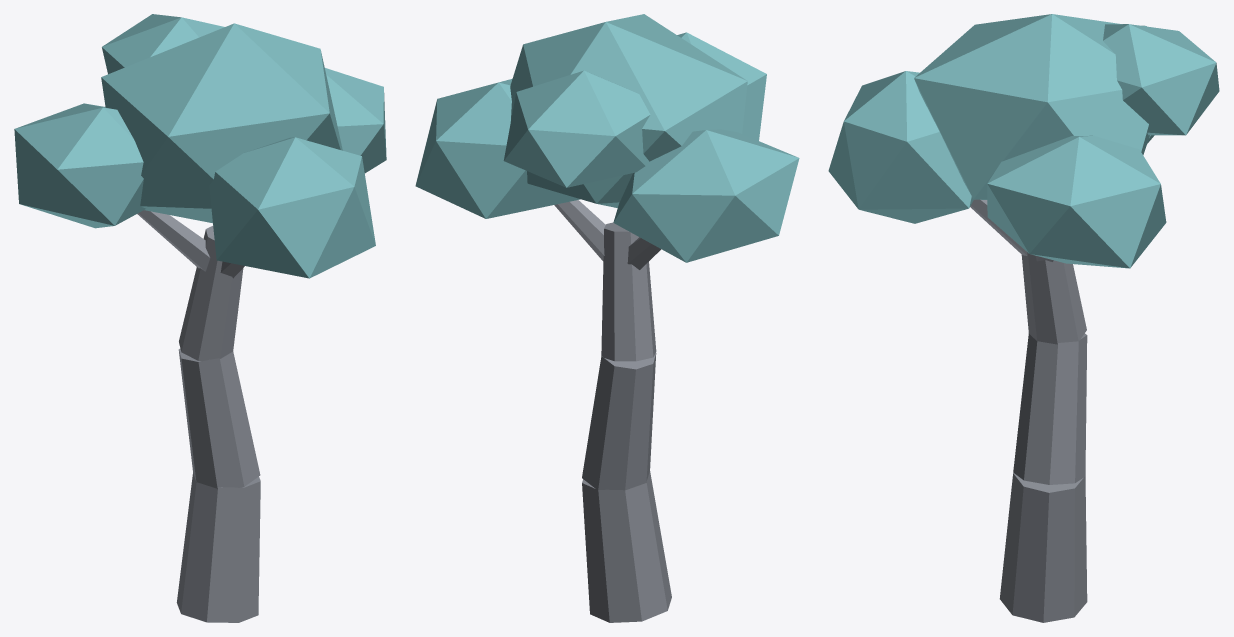
The model's file is Tree_Ironwood.fbx.
3 renders of one model, left to right at view 1: azimuth 30°, elevation 25°; view 2: azimuth 150°, elevation 25°; view 3: azimuth 270°, elevation 25°, orthographic. The views are drawn at different scales.
Parts seen in each view (by area): view 1: Tree_Ironwood_Mesh; view 2: Tree_Ironwood_Mesh; view 3: Tree_Ironwood_Mesh.
Boxes of the visible parts, box(x1,y1,x2,y2) form: Tree_Ironwood_Mesh: box(14, 14, 386, 622); Tree_Ironwood_Mesh: box(415, 14, 799, 622); Tree_Ironwood_Mesh: box(828, 14, 1219, 622).
Bounding box in the file's own units: 7.2 × 11.36 × 6.7.
